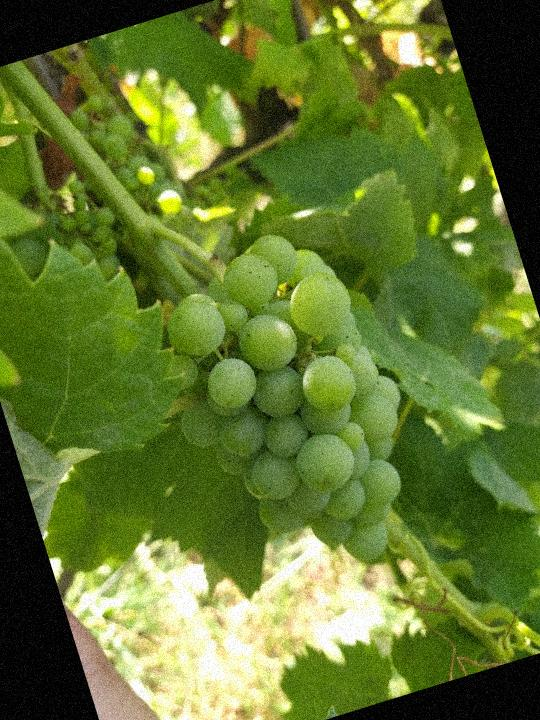grape: (130, 207, 451, 609)
